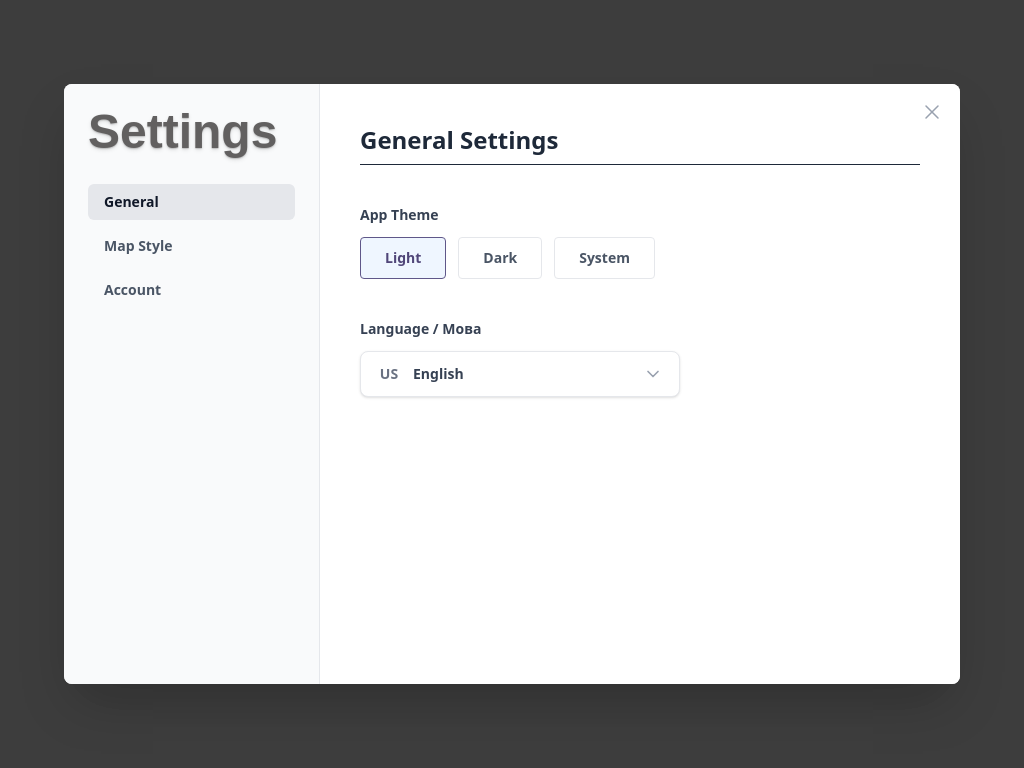
Test: SettingsModal Component › switches to the Map Style tab
Step 1. Click the button "Map Style" → (192, 246), box [88,228,295,264]
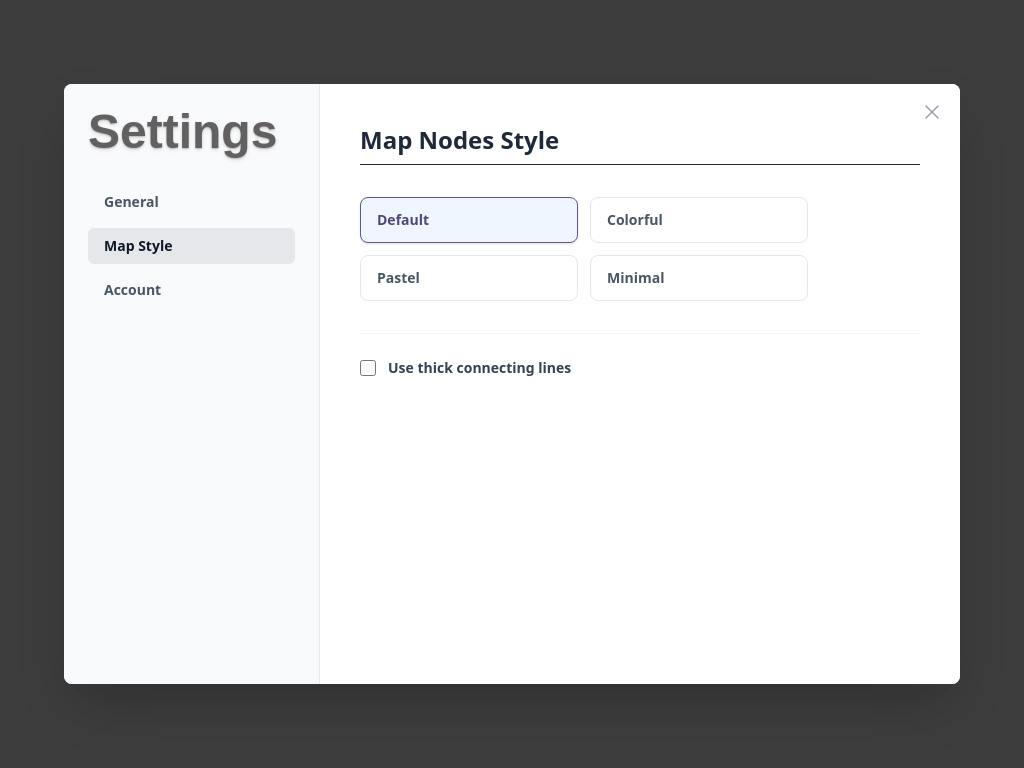
Result: the heading "Map Nodes Style" is shown at [360,124,920,165]
